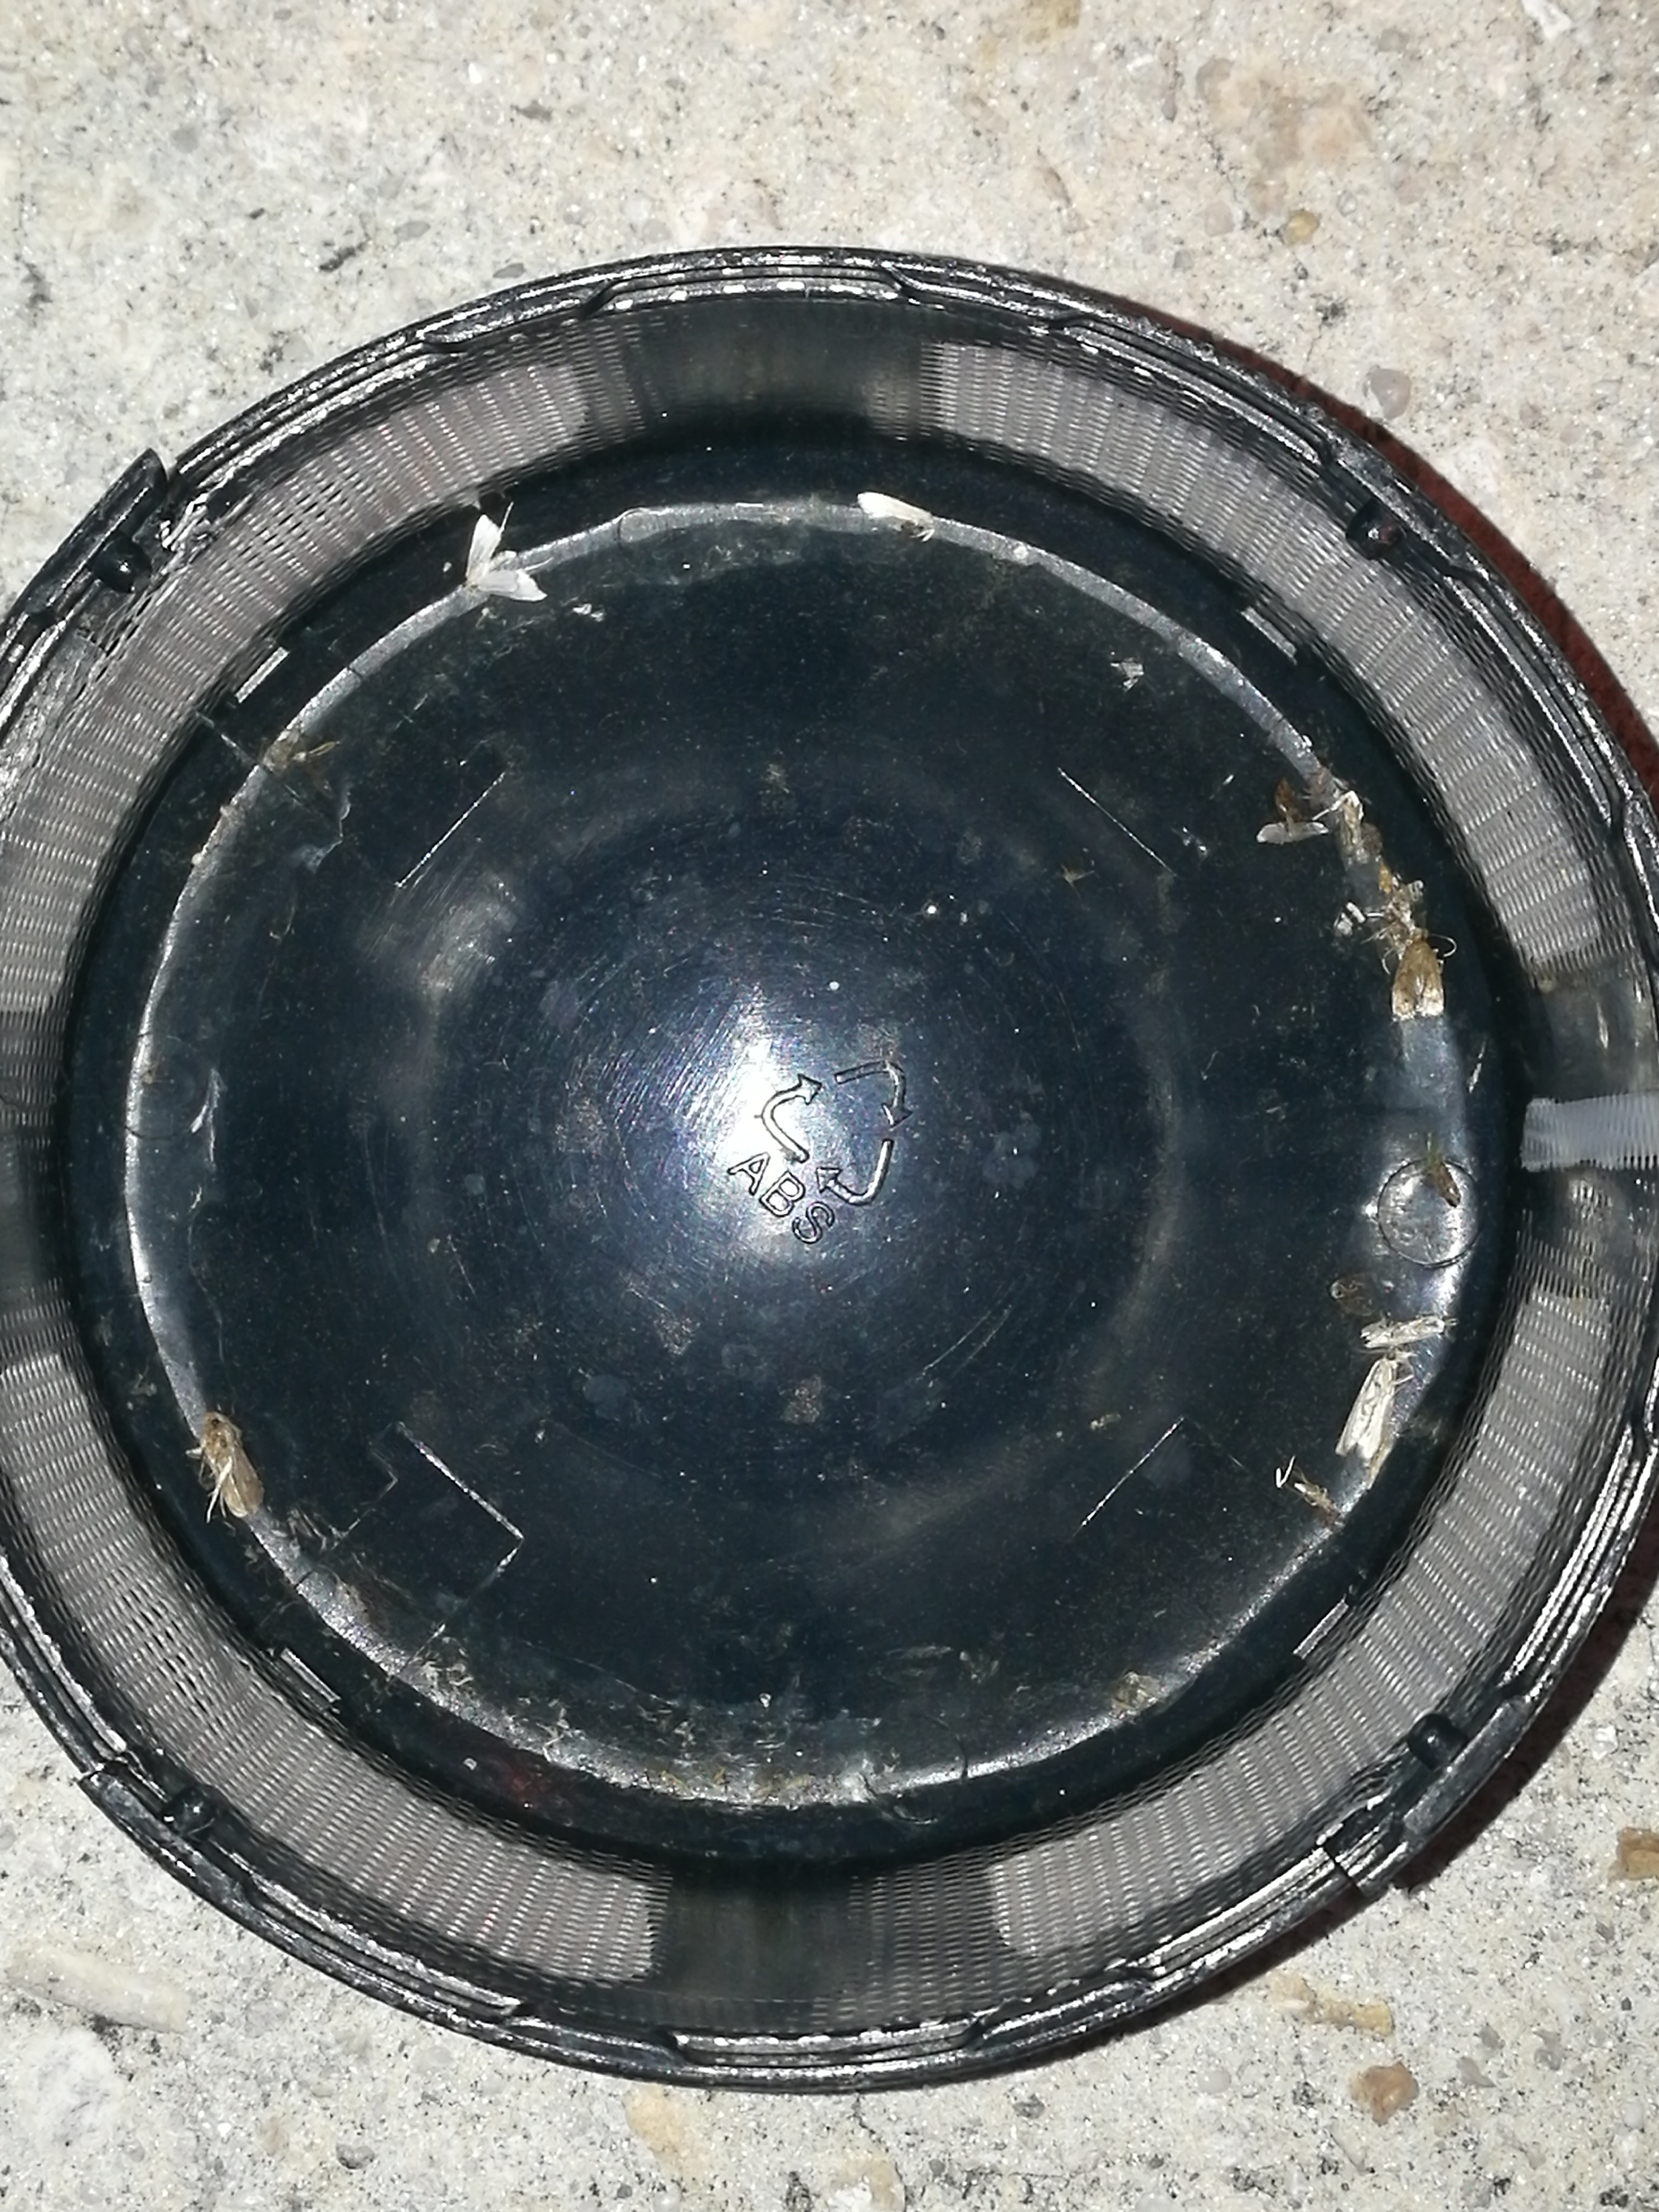mosquito: (1337, 1352, 1403, 1454), (859, 493, 932, 535), (1361, 1318, 1443, 1352)
moth: (464, 516, 547, 601), (207, 1411, 265, 1517), (1394, 942, 1445, 1021)
